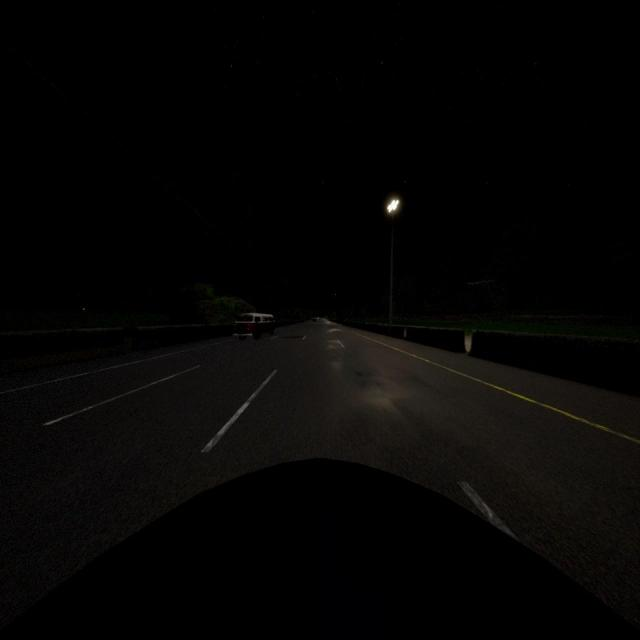Vehicle: (0, 464, 638, 640), (233, 312, 274, 338), (312, 318, 317, 322)
